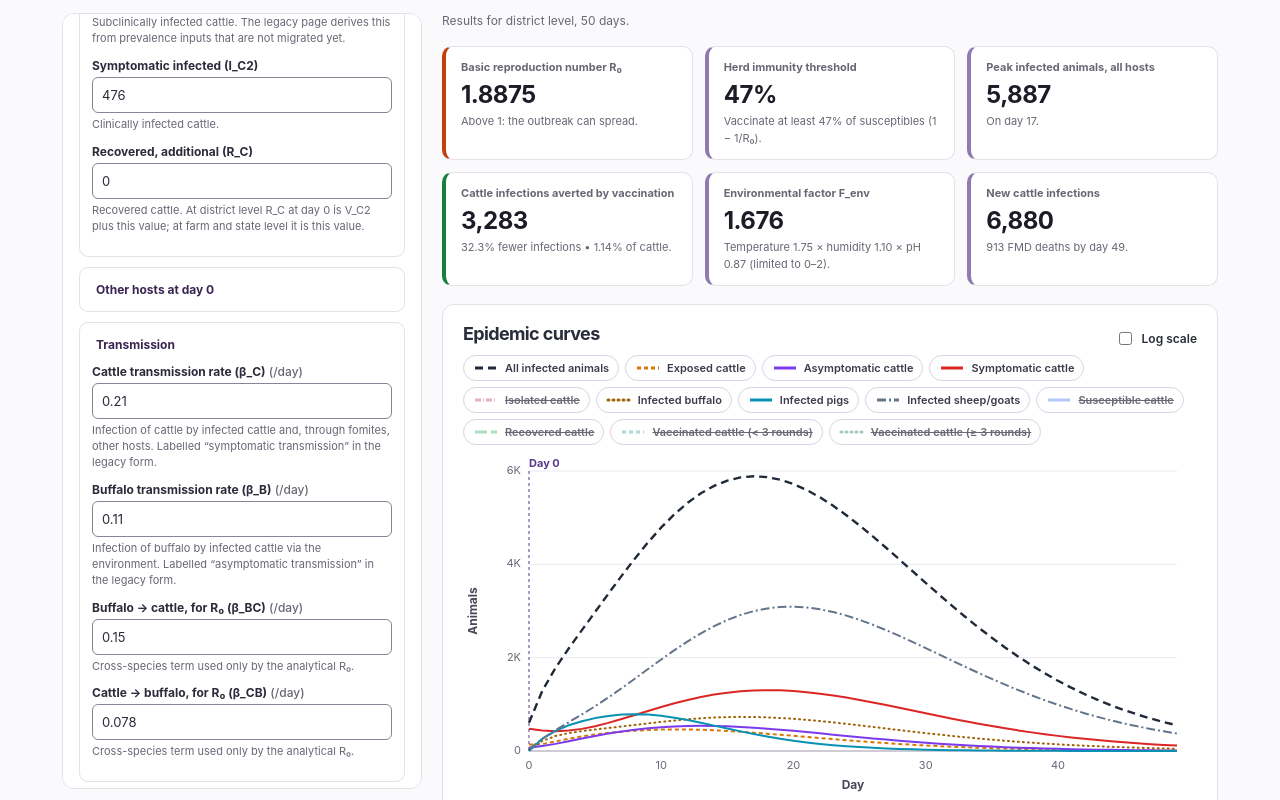
Test: FMD simulator › keeps the status region quiet for short runs and accurate while a value is invalid
This screenshot has width=1280, height=800.
(page scrolled)
Expected: the element named "Simulation parameters" is shown, [62,13,422,789]
Replace the text in the number field labelled "Cattle transmission rate (β_C) (/day)" with "0.3" at (242, 401), box [92,383,392,419]
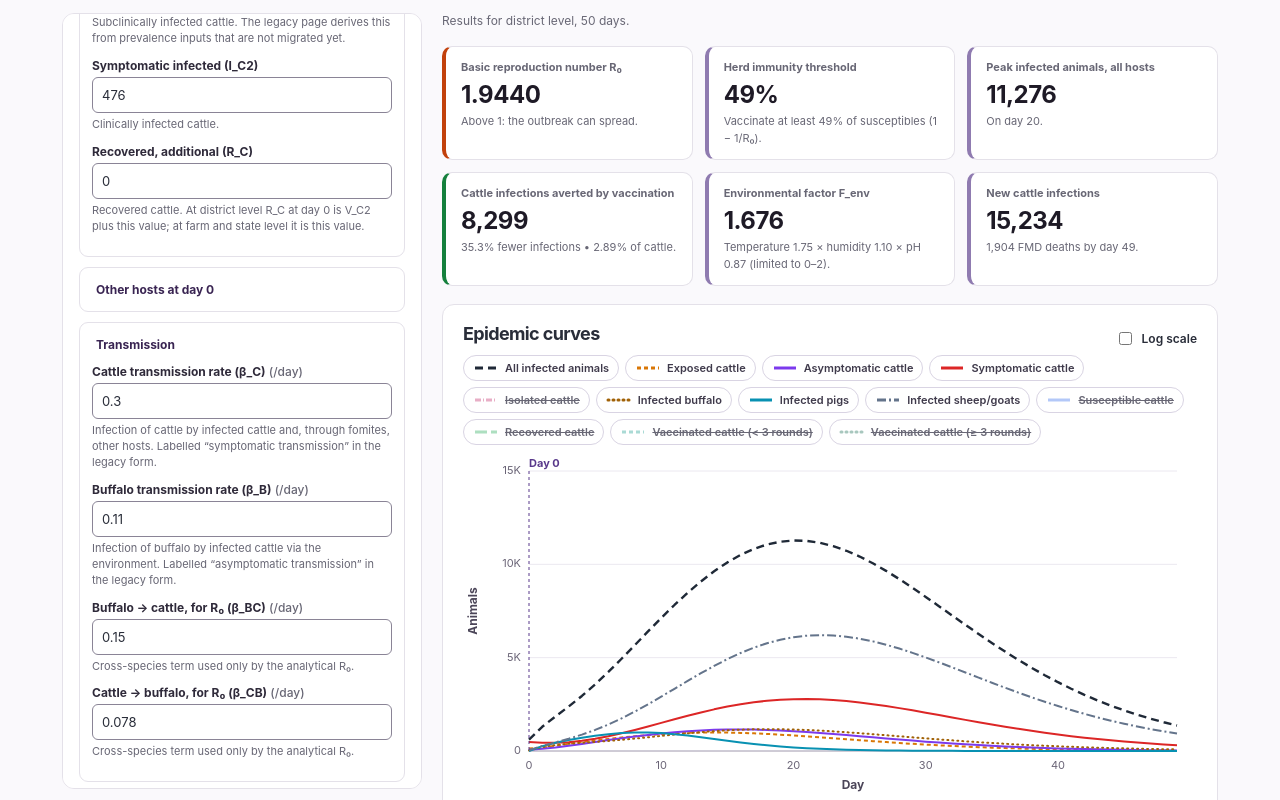
Clear the number field labelled "Cattle transmission rate (β_C) (/day)" at (242, 401), box [92,383,392,419]
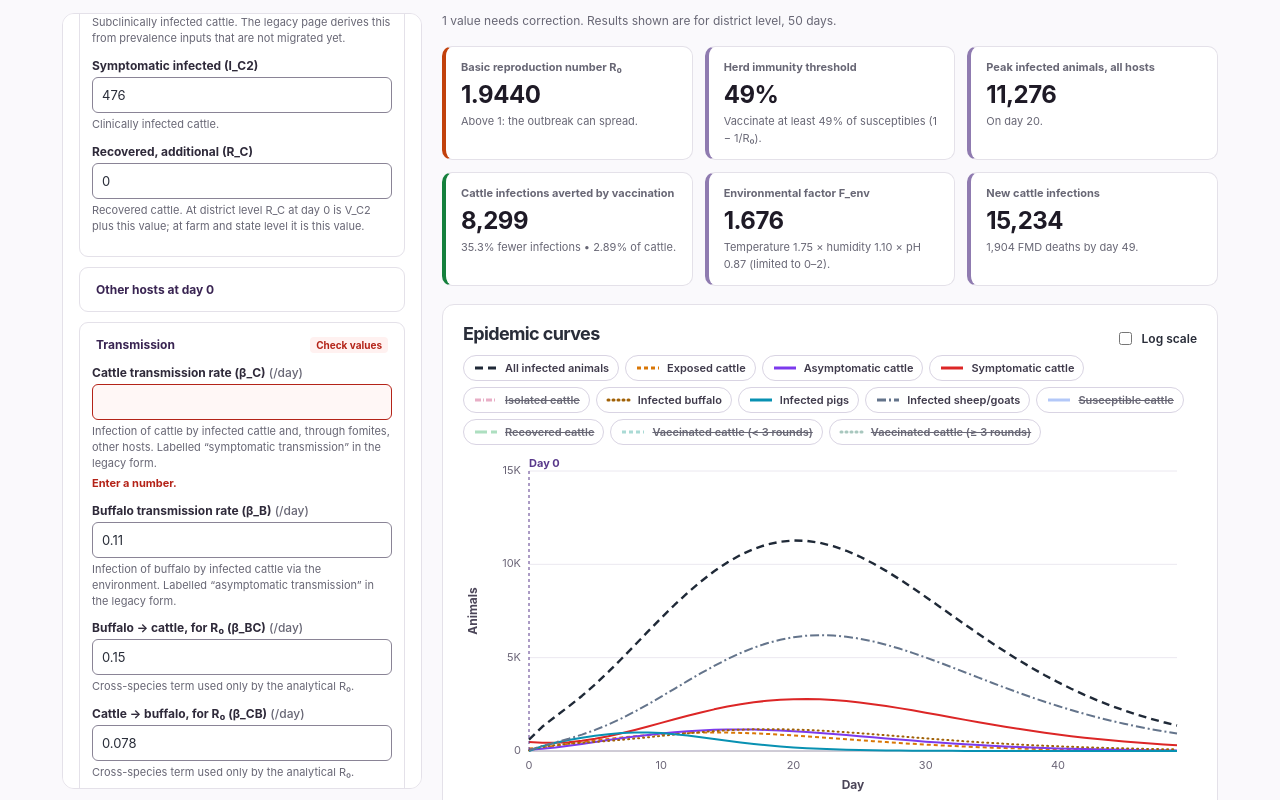
Result: the message reads "1 value needs correction. Results shown are for district level, 50 days." at [442,13,837,28]
